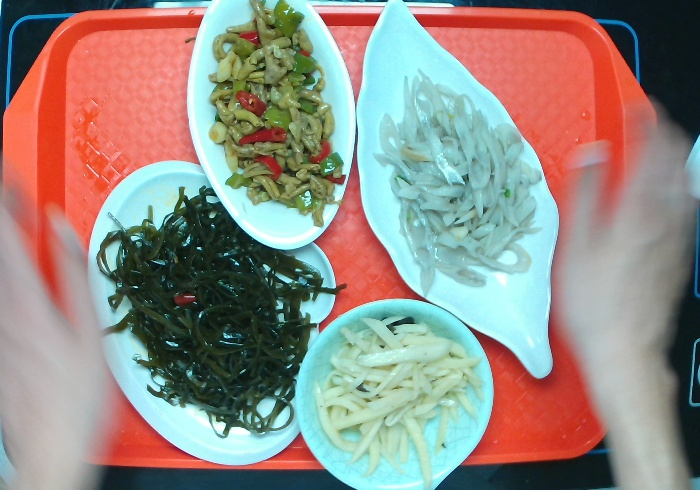RJxy-Bai_Se_Tuo_Yuan: (186, 1, 358, 253)
RJxy-Shu_Ye_Pan: (352, 1, 564, 381)
RJxy-Xiao_Jiao_Yuan_Wan: (297, 297, 497, 490)
RJxy-Zhan_Liao_Pan: (85, 157, 340, 470)
